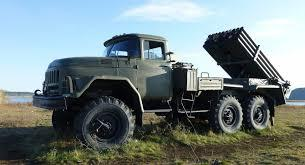MIL_SAM_TEL: (40, 28, 284, 141)
